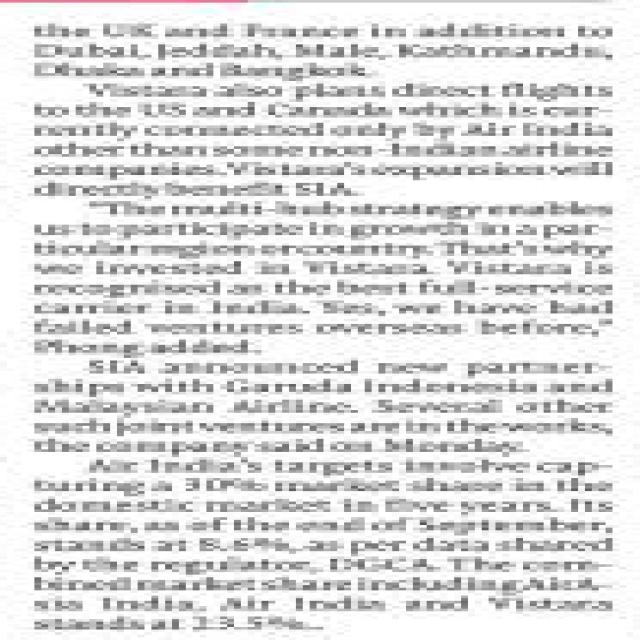paper: (7, 2, 640, 640)
